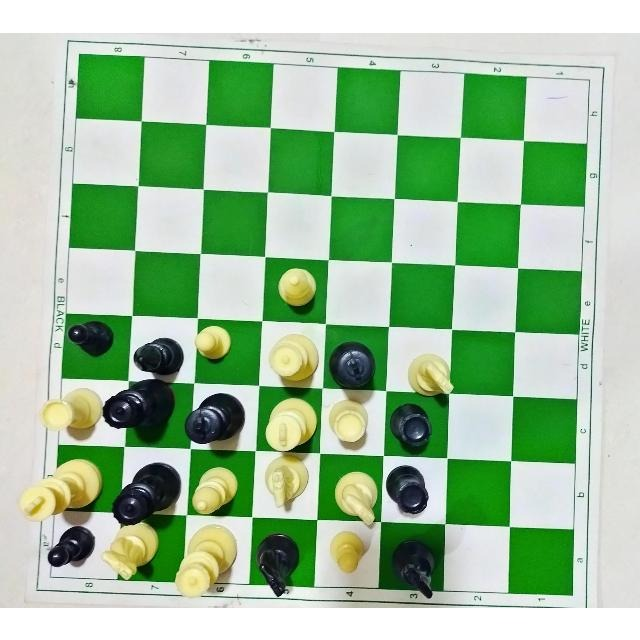black-bishop: (129, 335, 184, 375)
black-king: (180, 392, 244, 444), (330, 339, 374, 387)
black-knight: (395, 536, 437, 604), (257, 532, 294, 602)
black-pawn: (45, 524, 94, 572), (68, 314, 107, 359)
black-queen: (112, 462, 181, 528), (101, 380, 171, 432)
black-rook: (386, 403, 430, 451), (389, 465, 428, 519)
white-bishop: (187, 465, 239, 517), (272, 265, 320, 309)
white-king: (17, 456, 101, 524), (261, 396, 313, 452)
white-knight: (101, 517, 155, 585), (333, 467, 379, 531), (260, 455, 312, 511), (407, 351, 455, 396)
white-pawn: (328, 530, 366, 579), (196, 322, 234, 361)
white-queen: (170, 528, 236, 596), (269, 331, 317, 378)
white-rook: (41, 382, 98, 438), (329, 397, 368, 445)
